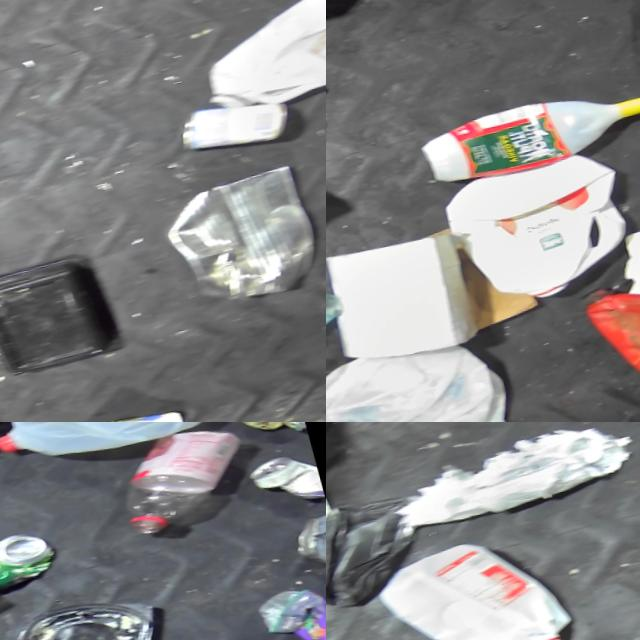can: (160, 94, 290, 168), (242, 454, 322, 519), (0, 530, 54, 604), (284, 520, 326, 588), (225, 422, 306, 455)
milk_jug: (429, 153, 640, 316), (364, 525, 574, 640), (186, 0, 326, 122), (326, 339, 498, 422), (0, 422, 222, 479)
non_white_jug: (572, 266, 640, 401)
plastic_bottle: (100, 425, 253, 550), (244, 581, 326, 640)
